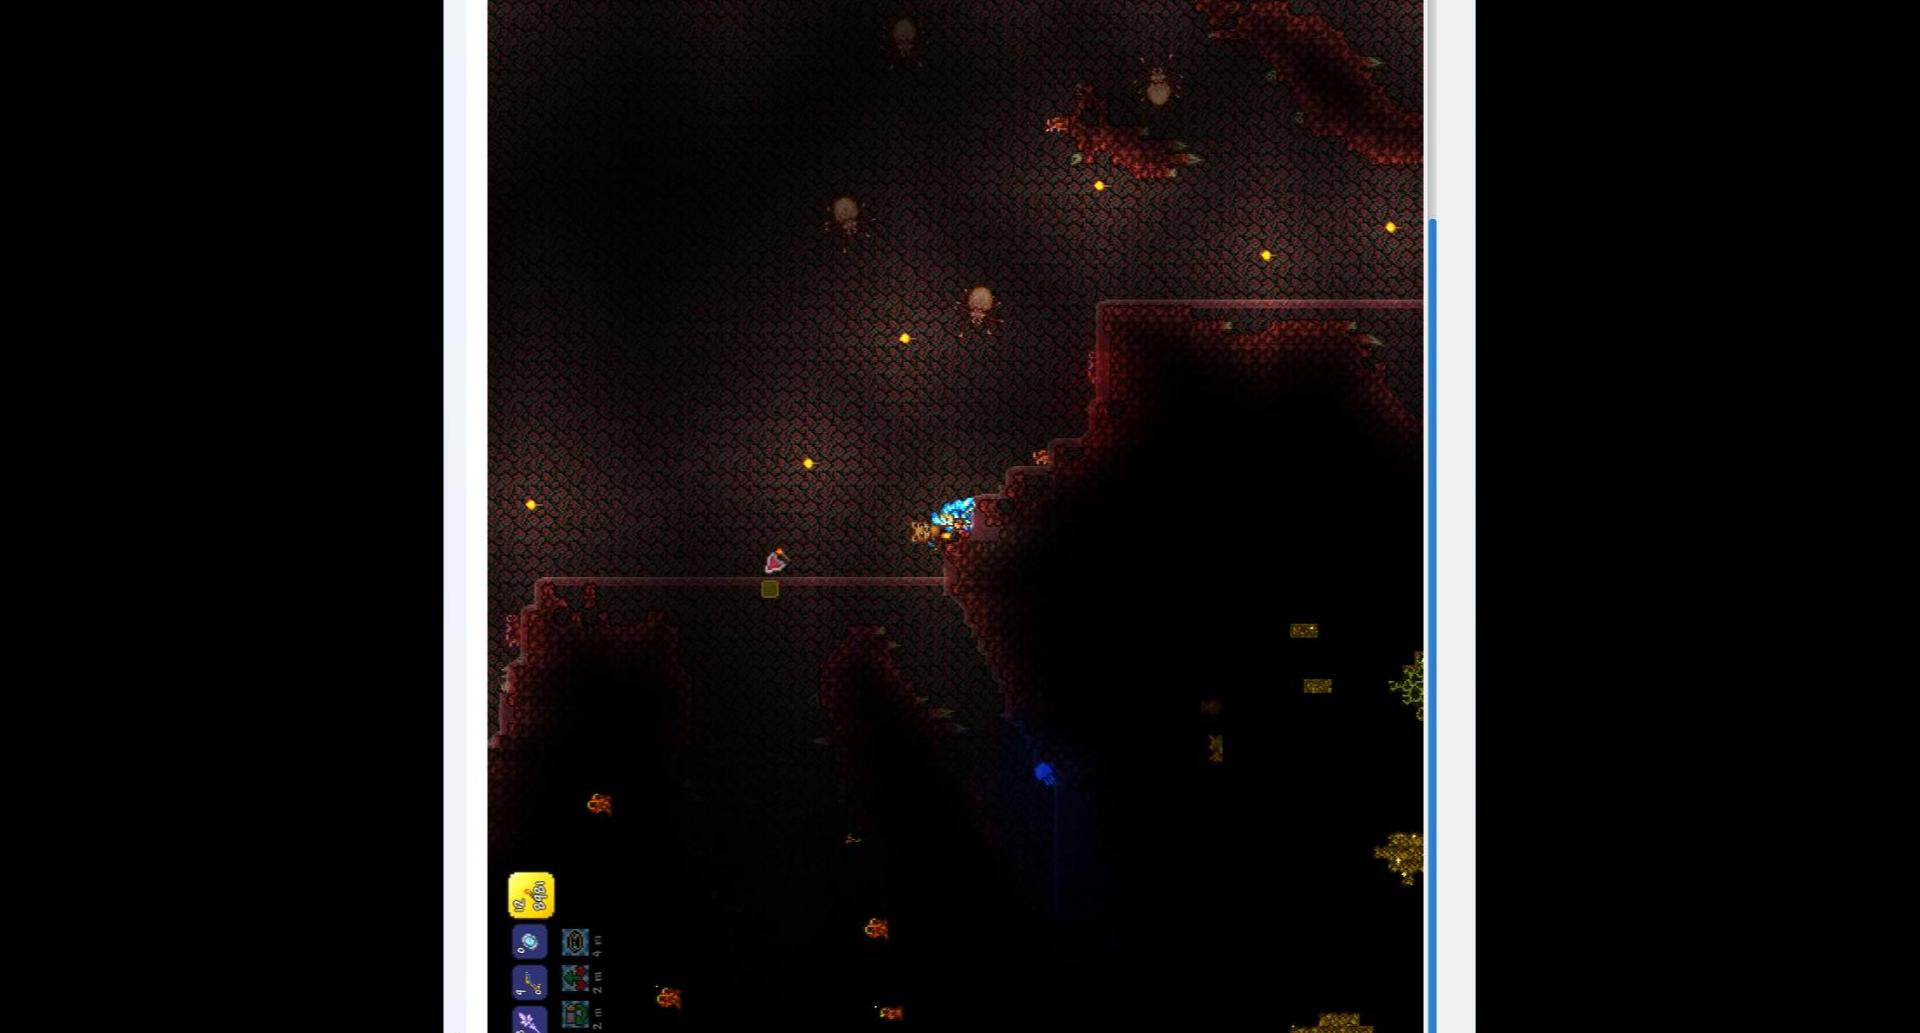spider: (813, 190, 876, 261), (946, 274, 1010, 343), (1129, 45, 1186, 107)
